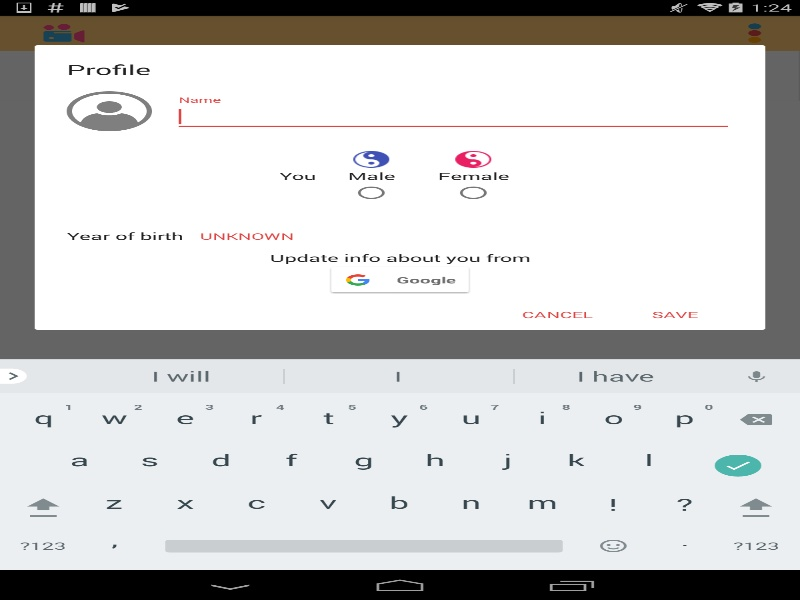Button: (184, 221, 733, 251), (326, 264, 474, 294), (498, 299, 616, 329), (616, 299, 733, 329)
Input: (173, 102, 733, 131)
